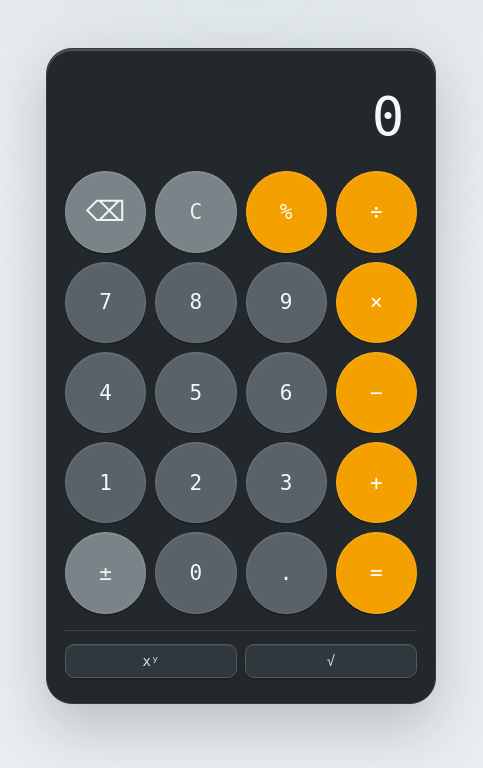
traditional calculator › sends square root through the optional scientific control on equals
Click the button "9" at (286, 302), box [246,262,327,343]
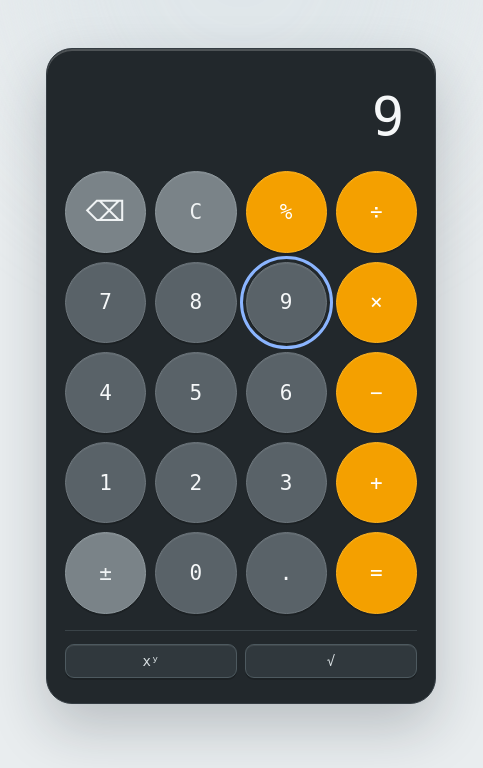
Click the button named "Square root" at (331, 661), box [245,644,417,678]
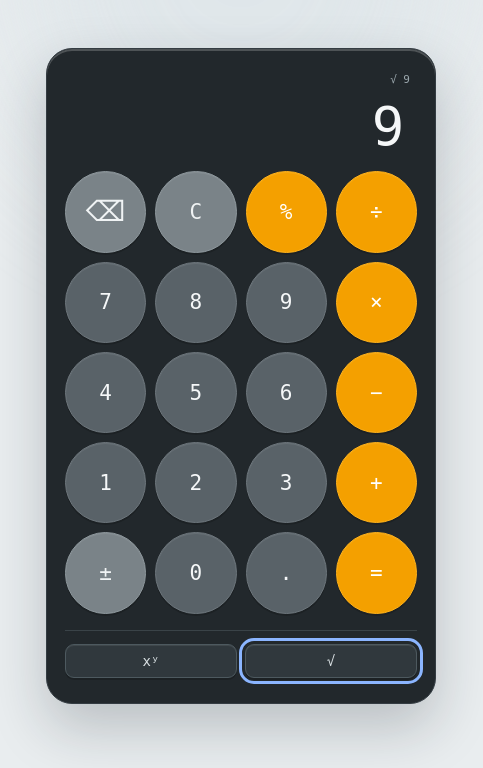
Click the button named "Equals" at (376, 573), box [336,532,417,614]
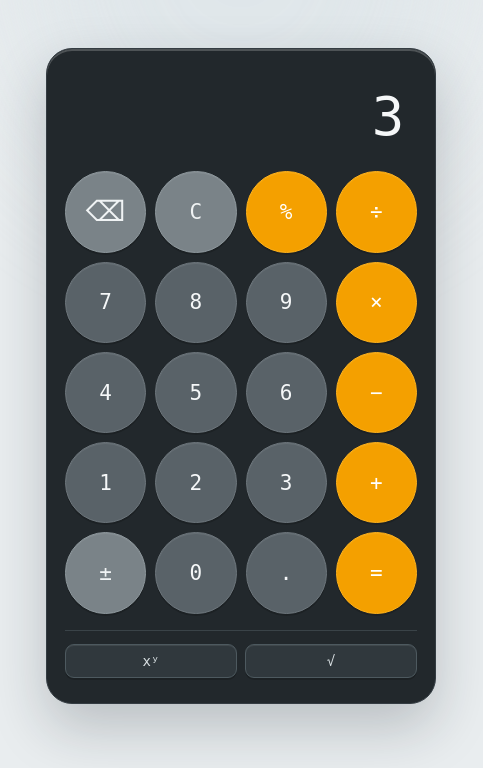
Check: the text named "Calculator display" reads "3", box [372,85,400,148]
Click the button named "Clear calculator" at (196, 212), box [155,171,237,253]
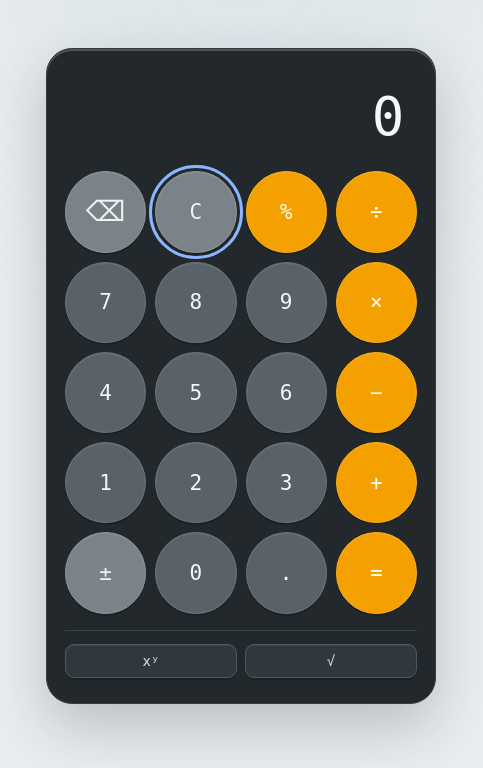
Check: the text named "Calculator display" reads "0", box [372,85,400,148]
